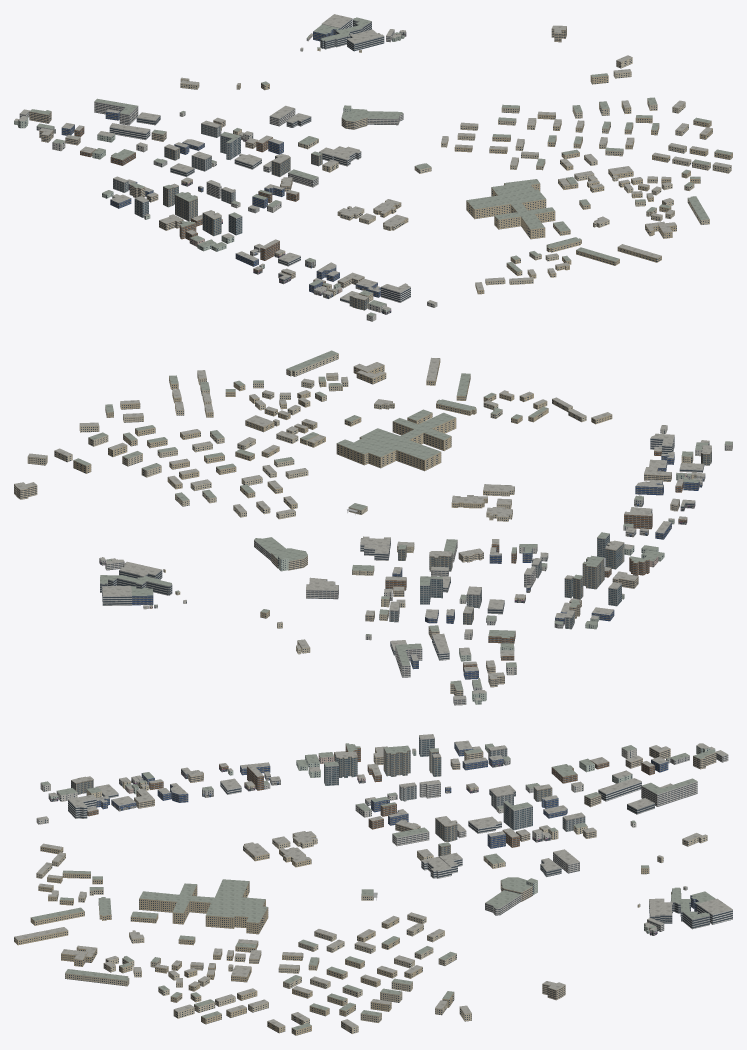
The model's file is ArahaTown_Block_E00000_N01024.gltf.
The picture shows the model from 3 angles, top to bottom: view 1: azimuth 30°, elevation 25°; view 2: azimuth 150°, elevation 25°; view 3: azimuth 270°, elevation 25°; orthographic projection. The views are drawn at different scales.
Parts seen in each view (by area): view 1: ArahaTown_Block_E00000_N01024; view 2: ArahaTown_Block_E00000_N01024; view 3: ArahaTown_Block_E00000_N01024.
Part boxes in pixels (box(x1,y1,x2,y2)): ArahaTown_Block_E00000_N01024: box(14, 14, 732, 321); ArahaTown_Block_E00000_N01024: box(14, 350, 732, 705); ArahaTown_Block_E00000_N01024: box(14, 734, 732, 1035).
Bounding box in the file's own units: 1031 × 56.47 × 1060.
23 materials, 22 textured.
